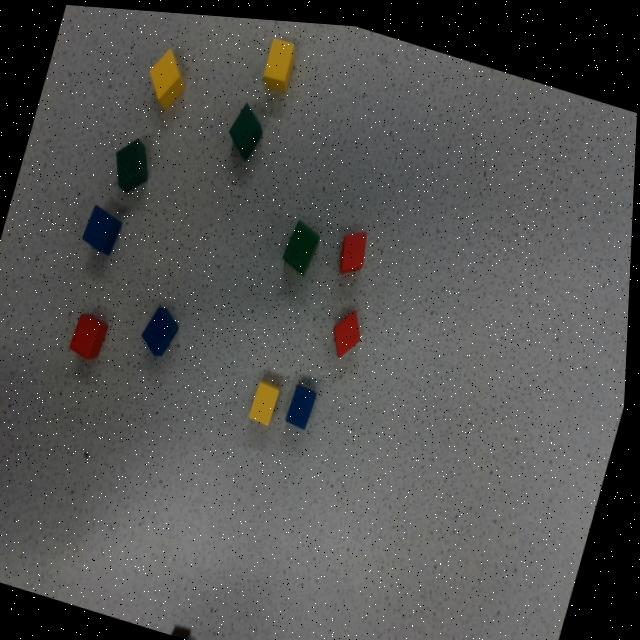blue_cube: (138, 301, 186, 355), (81, 203, 125, 253), (288, 378, 320, 423)
green_cube: (220, 98, 273, 156), (280, 215, 325, 269), (114, 136, 151, 190)
red_cube: (70, 310, 113, 359), (334, 304, 364, 351), (340, 224, 368, 269)
yellow_cube: (145, 45, 190, 107), (260, 33, 299, 88), (250, 375, 285, 420)
